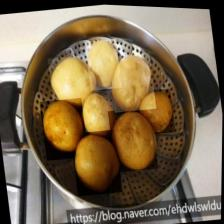Potato: (70, 127, 124, 197), (108, 105, 160, 173), (47, 51, 104, 113), (39, 96, 90, 162), (108, 50, 157, 113), (80, 88, 120, 142), (84, 36, 123, 90), (136, 86, 176, 135)
